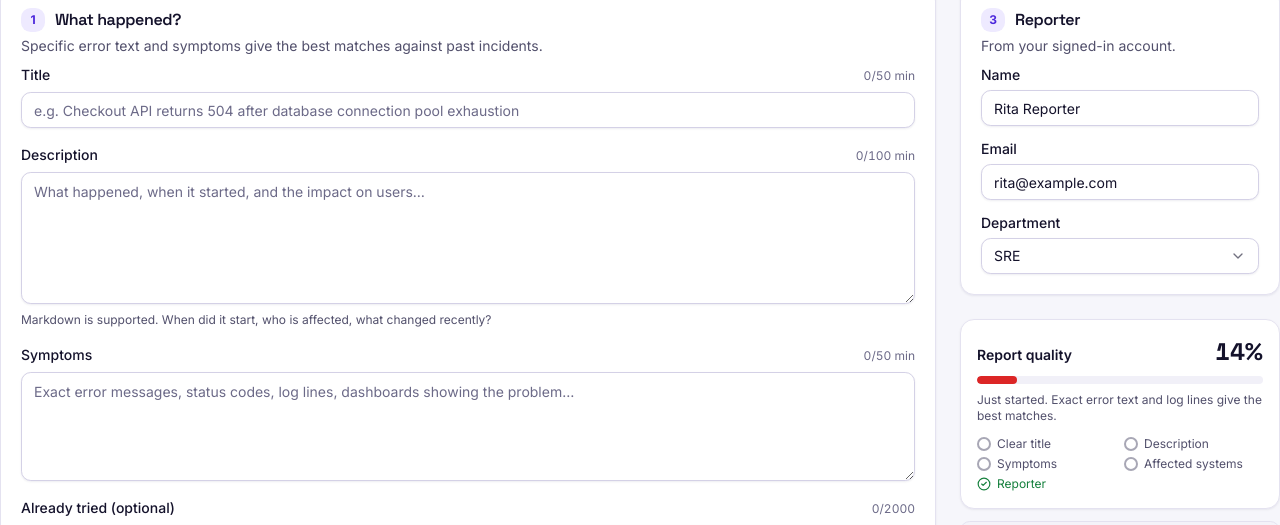
Test: IncidentForm › shows the server error and stays on the form when the API fails
Replace the text in the field labelled "Title" with "Checkout API returns 504 when the database connection pool is exhausted" at [468, 110], box [21,92,915,128]
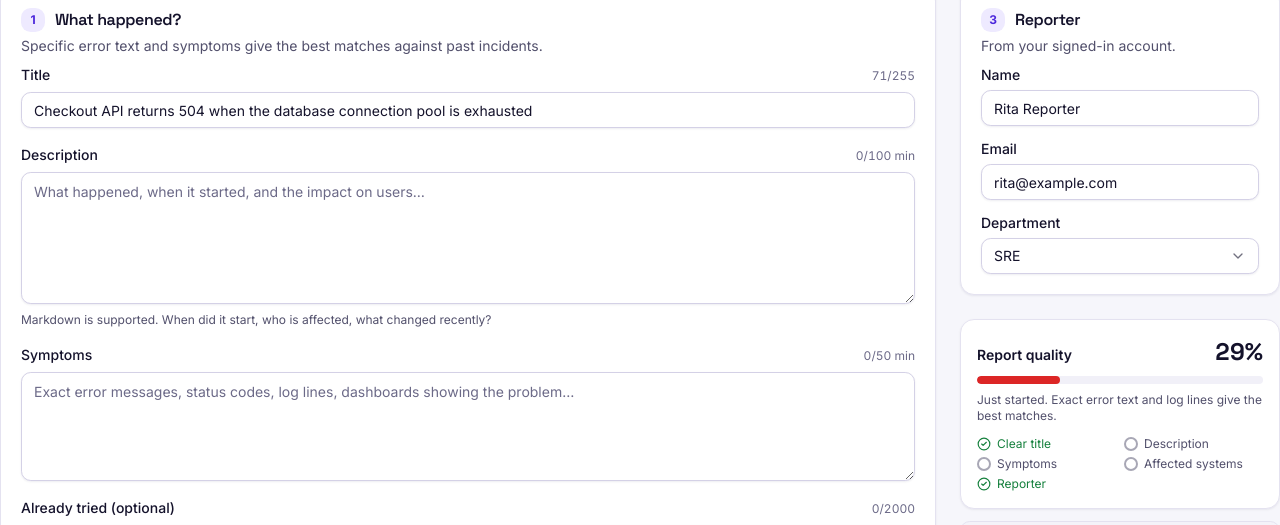
Type "The checkout service started timing out for most requests. The Postgres connection pool is pinned at its maximum while query latency stays low." into the text box labelled "Description" at [468, 238], box [21,172,915,304]
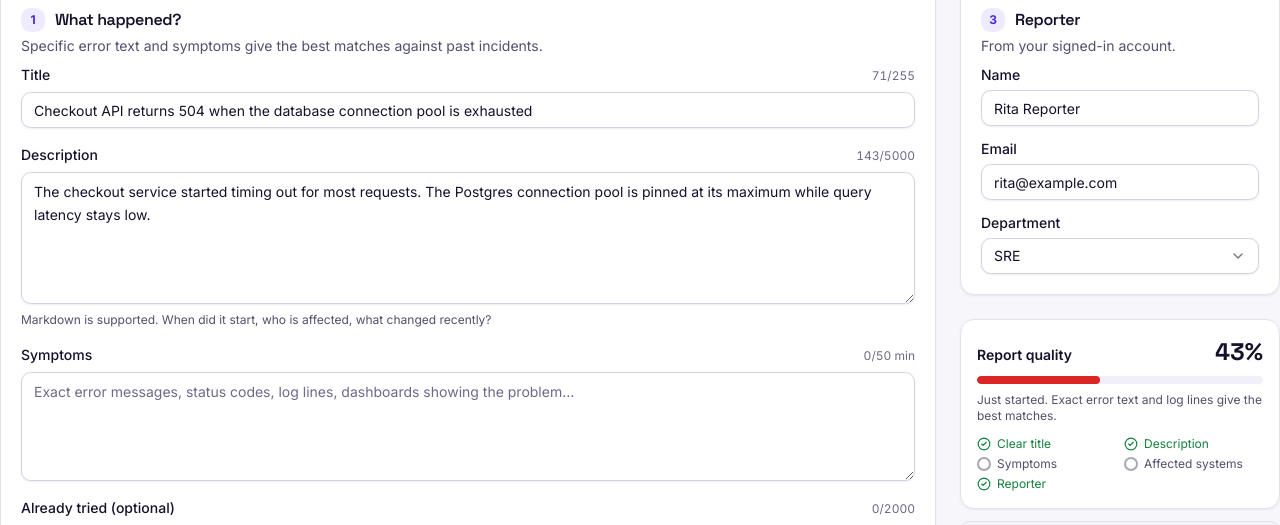
Replace the text in the text box labelled "Symptoms" with "HTTP 504 from /api/checkout after 30s. Logs: TimeoutError connection pool exhausted (max 20)." at [468, 426], box [21,372,915,481]
(page scrolled)
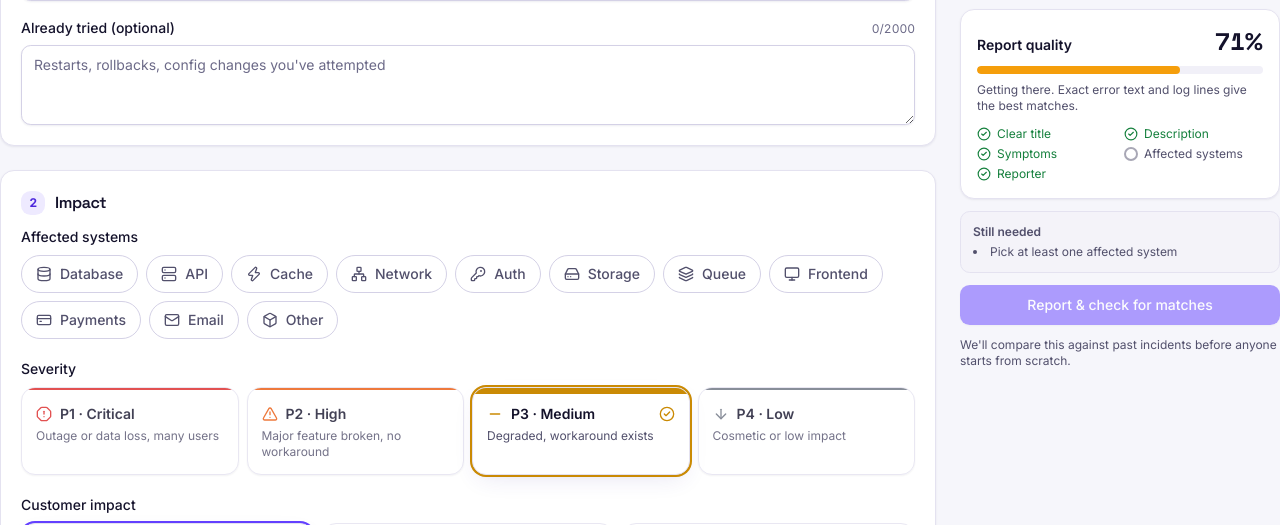
Click the button "Database" at [80, 274], box [21,255,138,293]
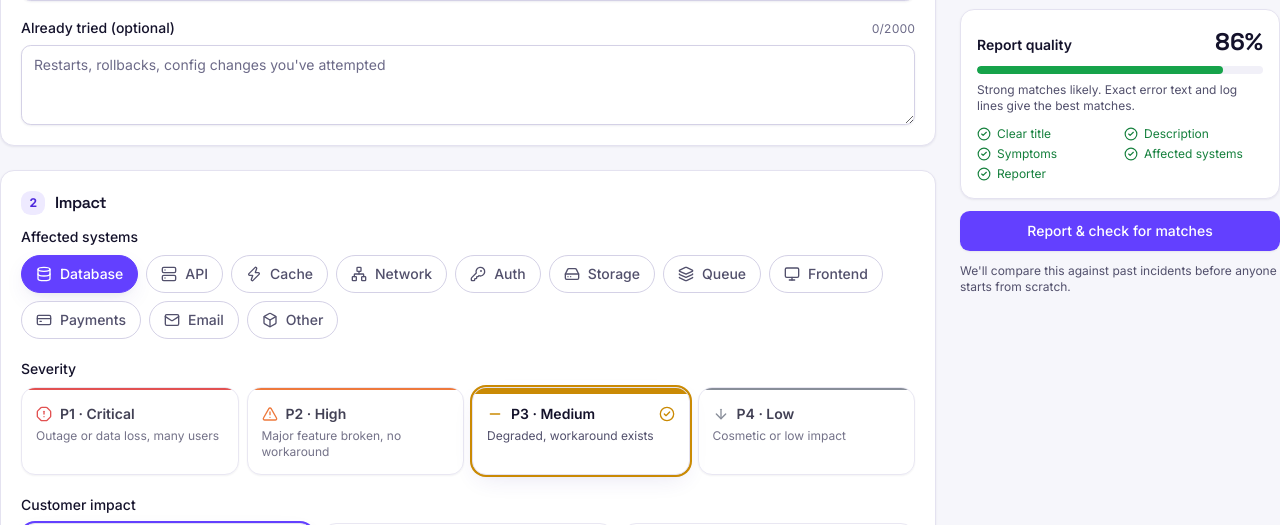
Click the button "Report & check for matches" at [1120, 231], box [960,211,1279,251]
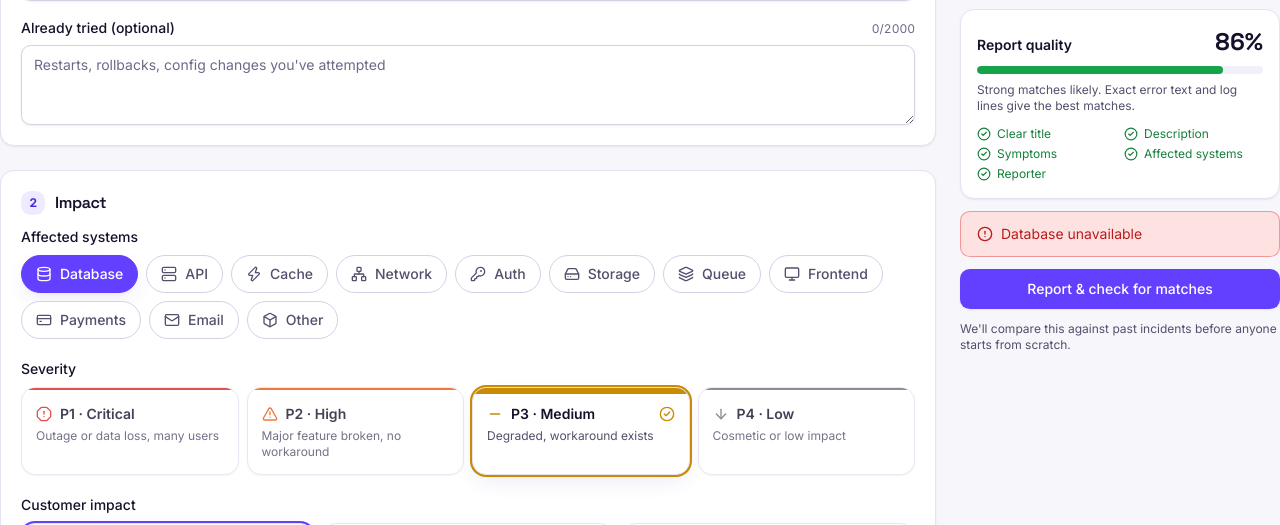
Expected: the button "Report & check for matches" is enabled, [960,269,1279,309]
Expected: the message reads "Database unavailable", [1001,225,1142,242]
